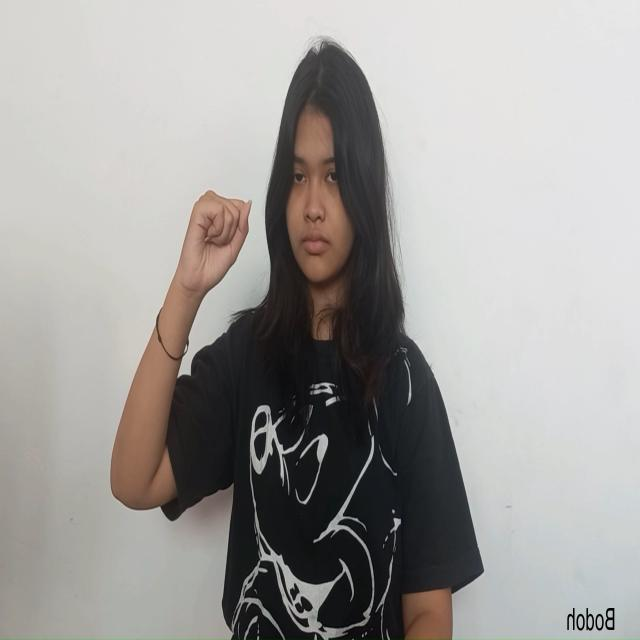Bodoh -BISINDO-: (172, 186, 254, 304)
